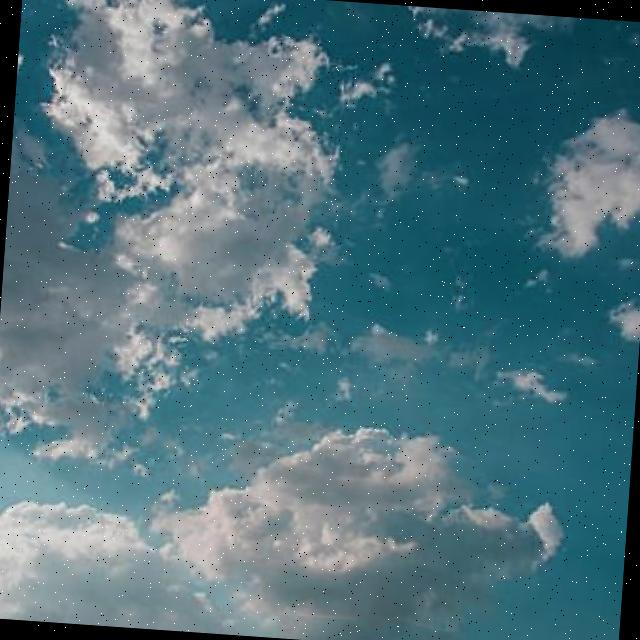Ns: (1, 1, 640, 606)
